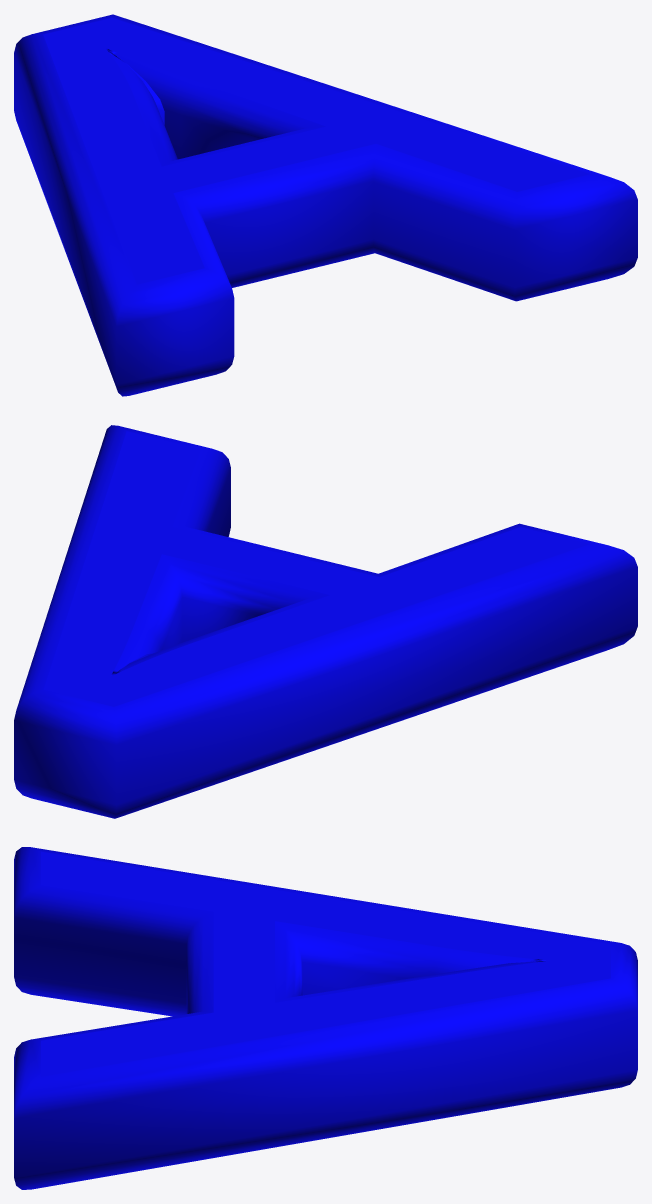
3 views of the same model, one above another, from view 1: azimuth 30°, elevation 25°; view 2: azimuth 150°, elevation 25°; view 3: azimuth 270°, elevation 25° (orthographic). The views are drawn at different scales.
Parts seen in each view (by area): view 1: texto; view 2: texto; view 3: texto.
Boxes of the visible parts, box(x1,y1,x2,y2) form: texto: box(14, 14, 637, 396); texto: box(14, 425, 637, 818); texto: box(14, 847, 637, 1189).
Size of the model in its own units: 1.13 by 0.22 by 1.15.
